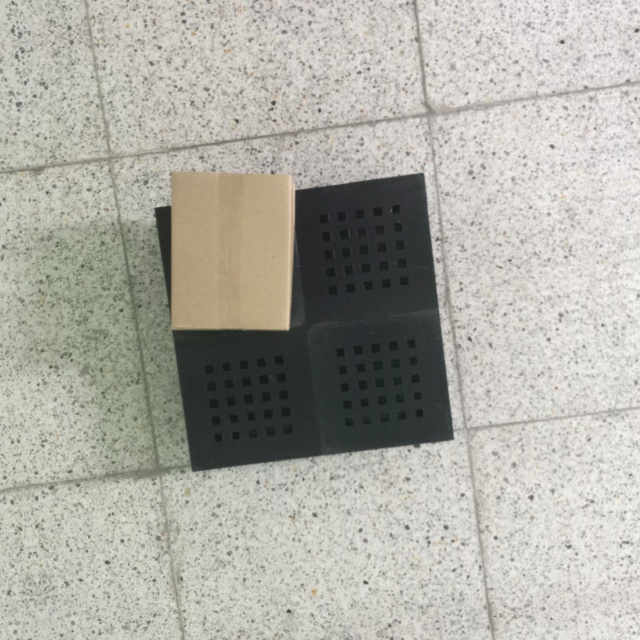box: (169, 172, 296, 332)
pallet: (157, 164, 464, 484)
